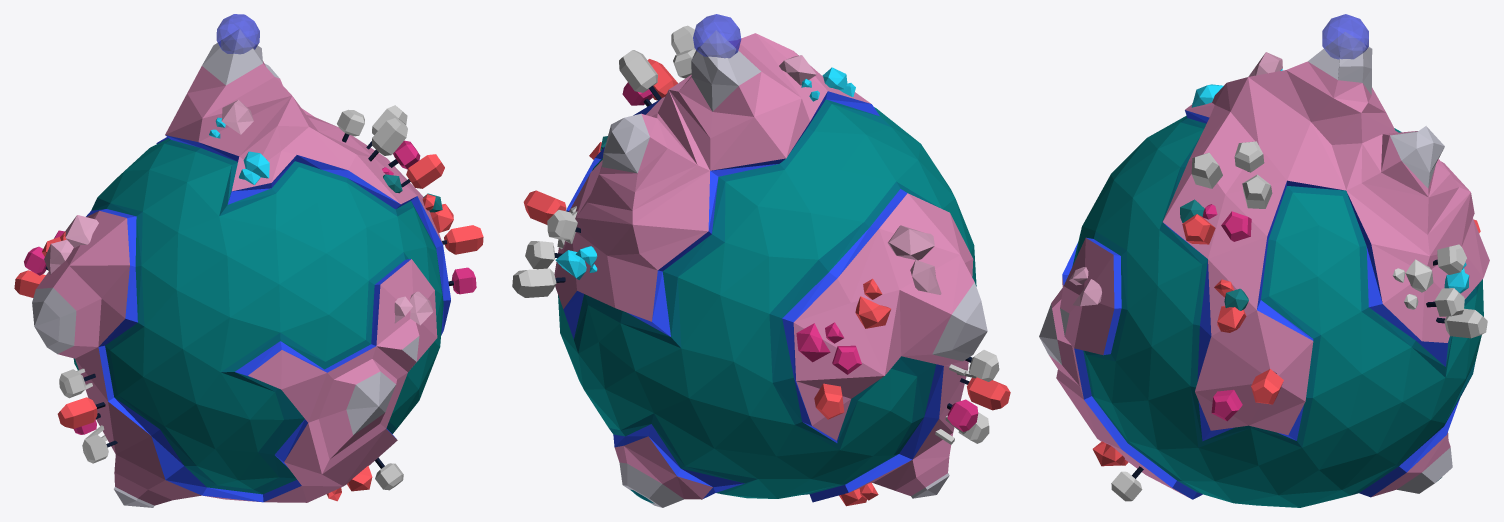
File: watchC_planet05.dae
3 views of the same model, side by side, from view 1: azimuth 30°, elevation 25°; view 2: azimuth 150°, elevation 25°; view 3: azimuth 270°, elevation 25° (orthographic). The views are drawn at different scales.
Parts seen in each view (by area): view 1: mundo1-002; view 2: mundo1-002; view 3: mundo1-002.
Boxes of the visible parts, x1,y1,x2,y2 form: mundo1-002: (14, 14, 483, 507); mundo1-002: (512, 14, 1010, 507); mundo1-002: (1039, 14, 1489, 507).
Bounding box in the file's own units: 2.61 × 2.53 × 2.15.
